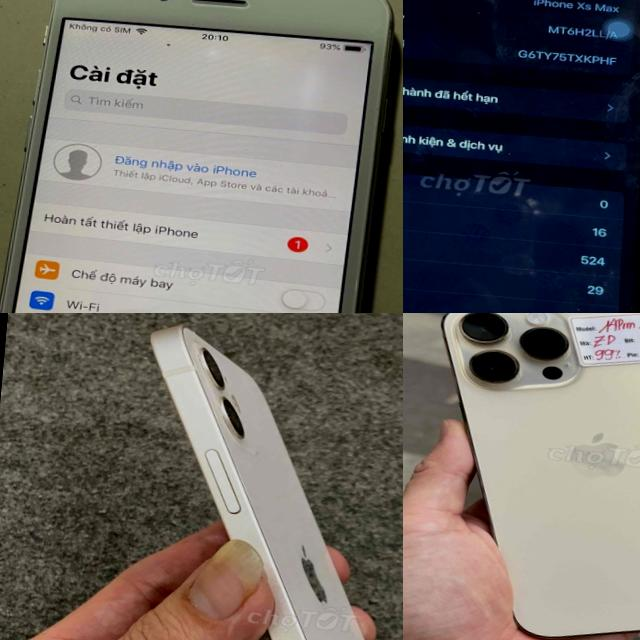scratch: (629, 203, 640, 246)
